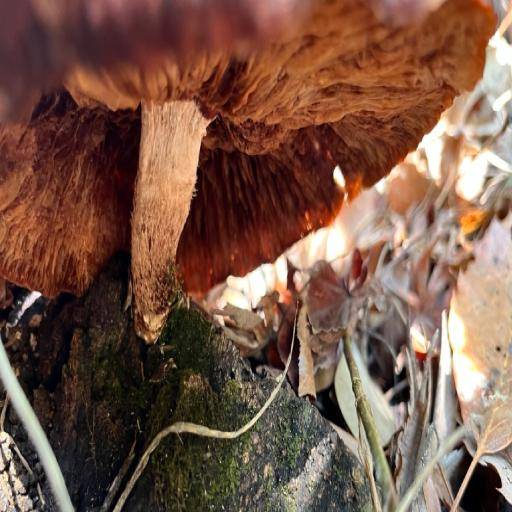Shiitake Mushroom: (0, 7, 484, 333)
